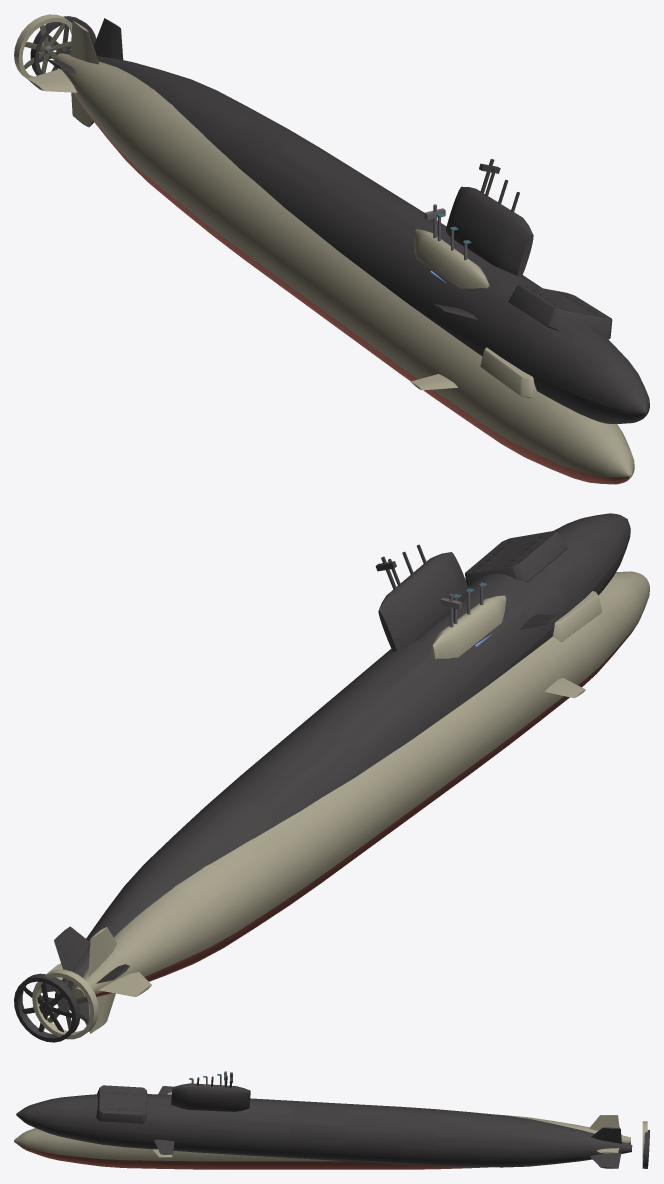
Rendered from submarine__virginia_class.glb.
The picture shows the model from 3 angles, top to bottom: view 1: azimuth 30°, elevation 25°; view 2: azimuth 150°, elevation 25°; view 3: azimuth 270°, elevation 25°; orthographic projection. The views are drawn at different scales.
Visible parts, largest first — view 1: Hull_Mesh, Wreck; view 2: Wreck, Hull_Mesh; view 3: Wreck, Hull_Mesh.
Boxes of the visible parts, <box> form: Hull_Mesh: <box>14,14,634,484</box>; Wreck: <box>30,16,649,423</box>; Wreck: <box>14,513,630,1042</box>; Hull_Mesh: <box>32,571,649,1039</box>; Wreck: <box>16,1072,649,1168</box>; Hull_Mesh: <box>14,1074,647,1169</box>.
Size of what is drawn, in the model's own units: 18.18 by 21.7 by 114.
